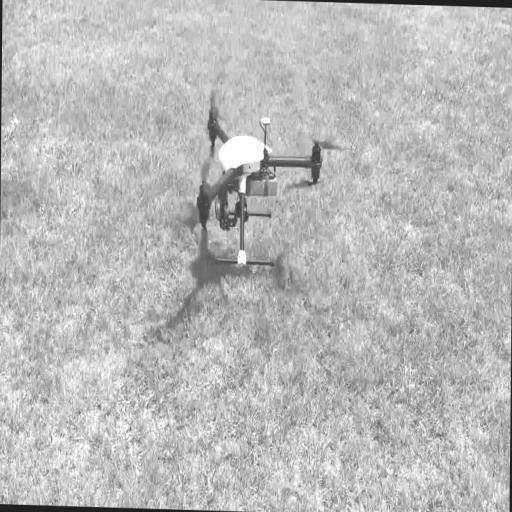drone: (196, 88, 334, 273)
